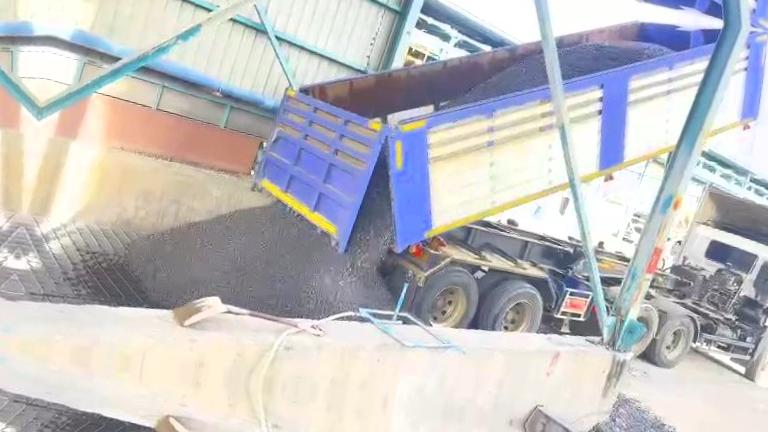gravel: (126, 159, 392, 318), (444, 54, 547, 106), (558, 41, 673, 79), (591, 395, 696, 432)
